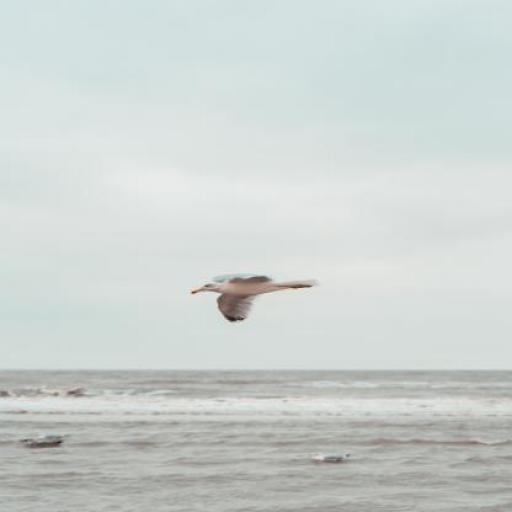bird: (191, 273, 321, 324)
